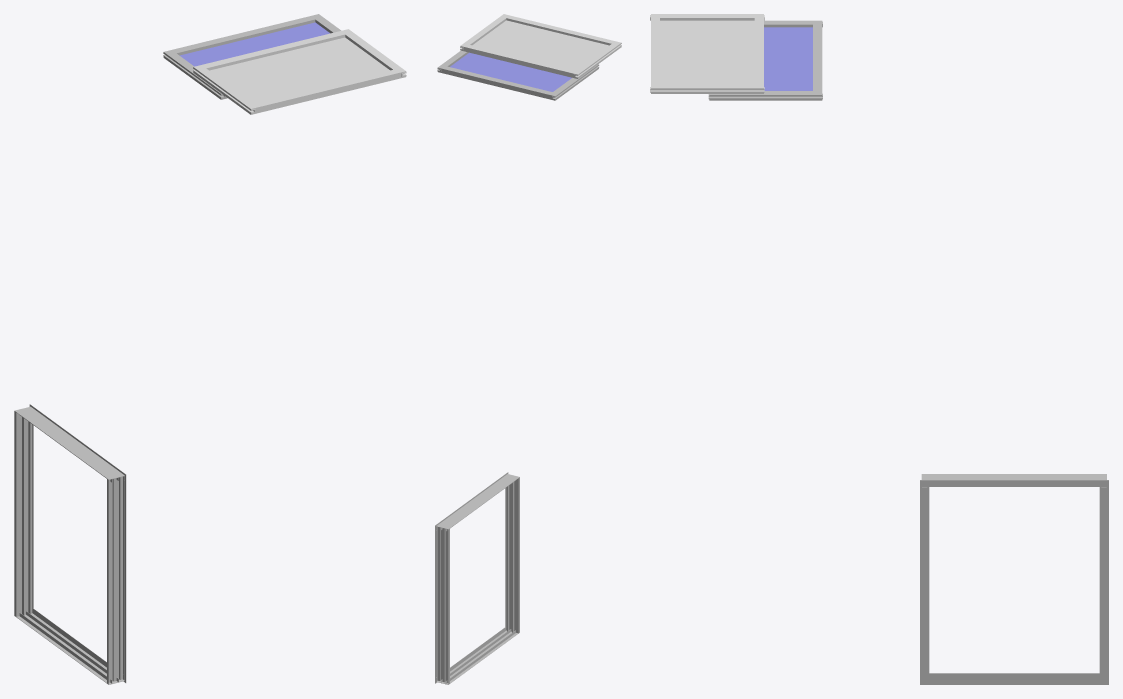
File: Window.fbx
3 renders of one model, left to right at view 1: azimuth 30°, elevation 25°; view 2: azimuth 150°, elevation 25°; view 3: azimuth 270°, elevation 25°, orthographic. The views are drawn at different scales.
Visible parts, largest first — view 1: WindowFrame, Window.L, Window.R; view 2: WindowFrame, Window.L, Window.R; view 3: Window.L, WindowFrame, Window.R.
Part boxes in pixels (x1,y1,x2,y2): WindowFrame: (14, 404, 126, 684); Window.L: (193, 29, 406, 114); Window.R: (163, 14, 341, 99); WindowFrame: (435, 472, 519, 684); Window.L: (460, 14, 621, 78); Window.R: (437, 50, 599, 100); Window.L: (650, 14, 764, 93); WindowFrame: (920, 474, 1108, 684); Window.R: (708, 20, 822, 100).
Size of the model in its own units: 10.46 by 42.48 by 26.56.
